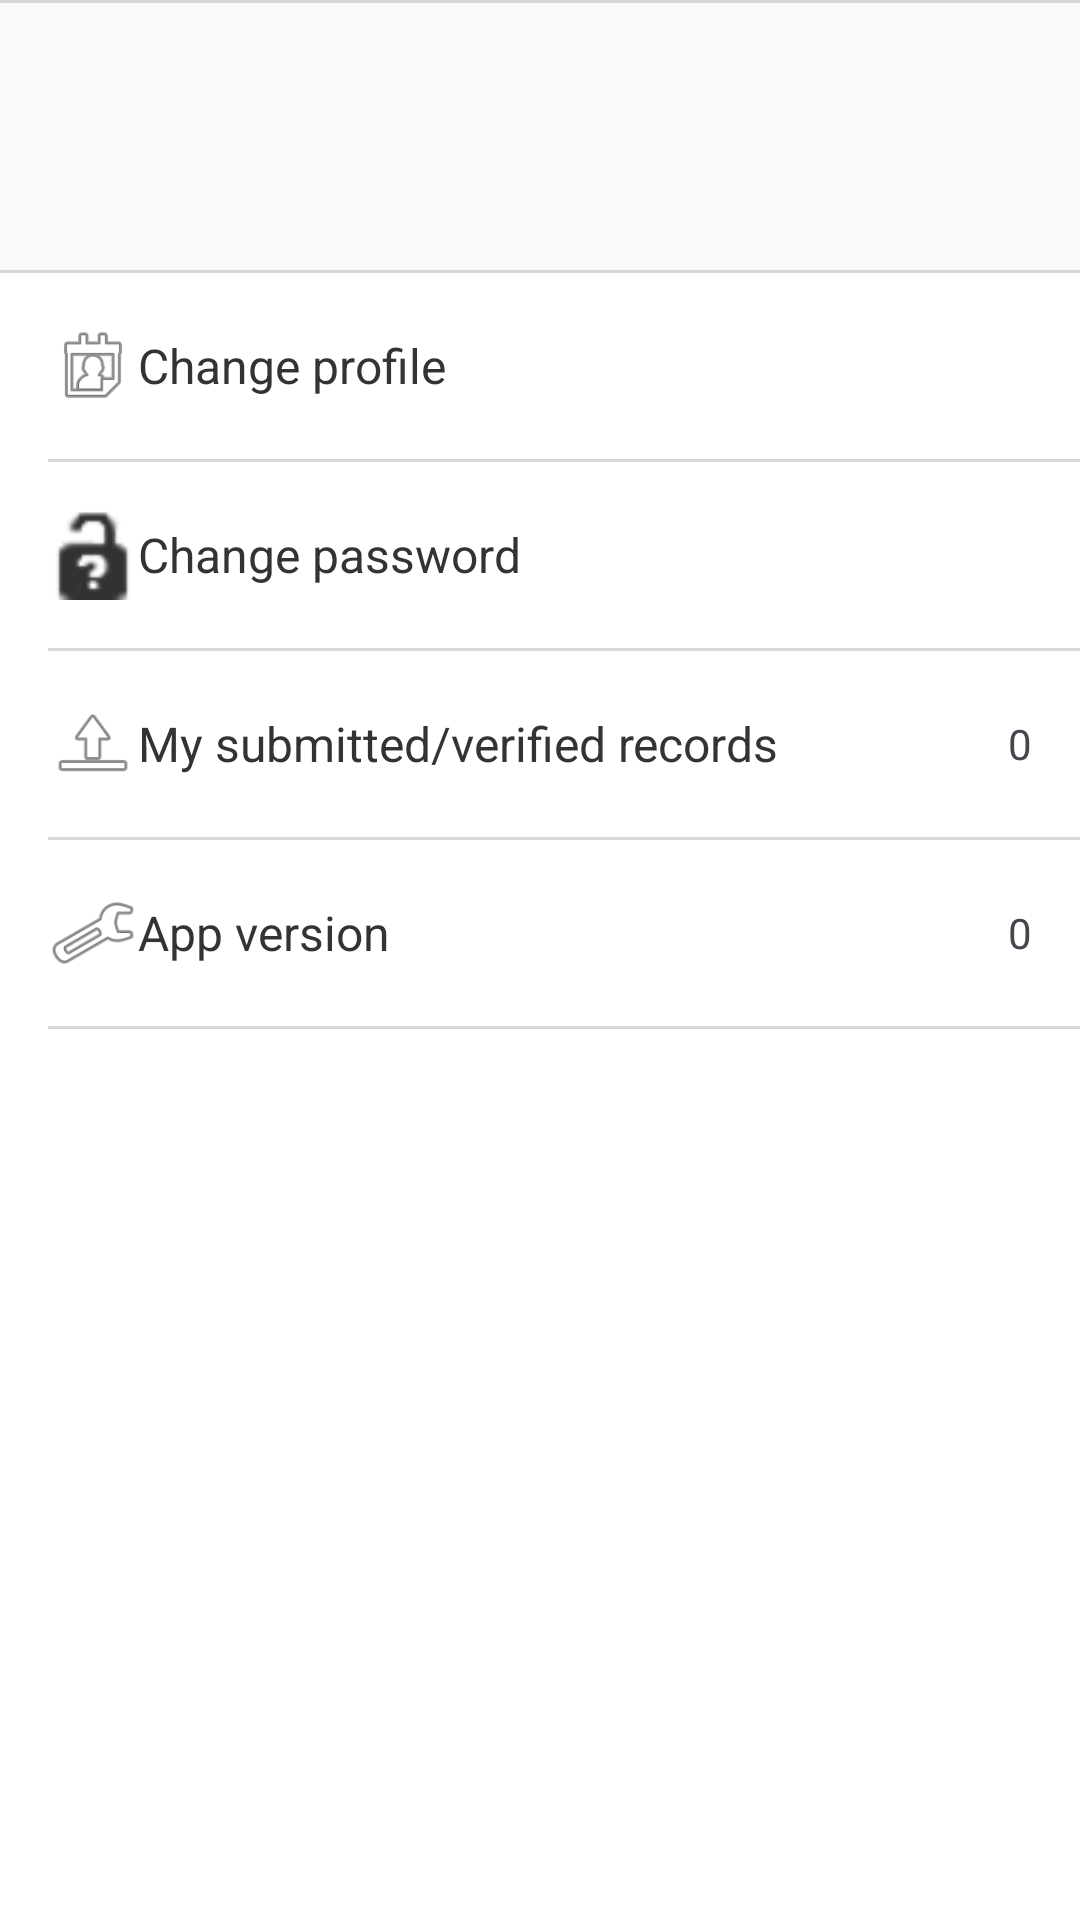

Icon bounding boxes for this 1080w x 1920h phone screenshot, format [x1=x1, y1=y1, x2=x2, y2=y2]:
calendar: [x1=64, y1=332, x2=122, y2=398]
manage: [x1=52, y1=902, x2=134, y2=964]
partial secure: [x1=58, y1=512, x2=128, y2=600]
upload: [x1=58, y1=714, x2=128, y2=771]
